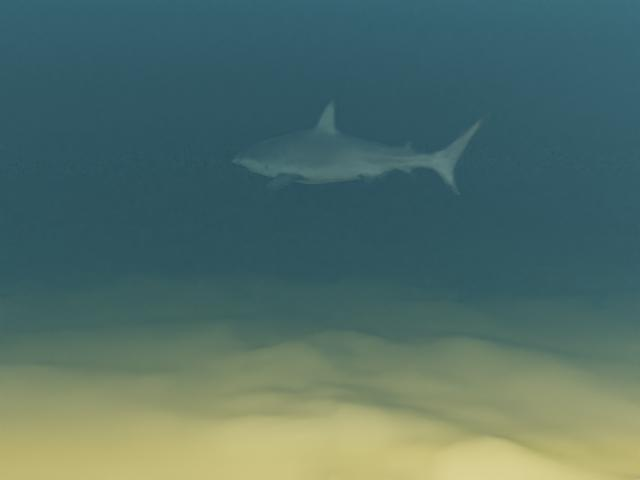Carribean Shark.001: (232, 98, 490, 195)
